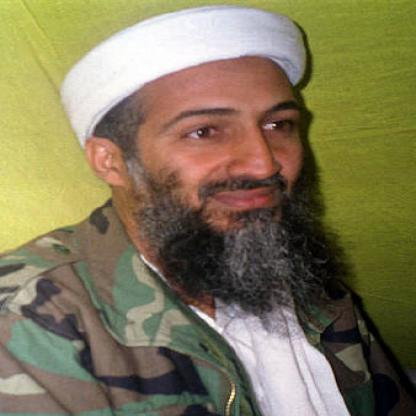face: (117, 24, 312, 253)
